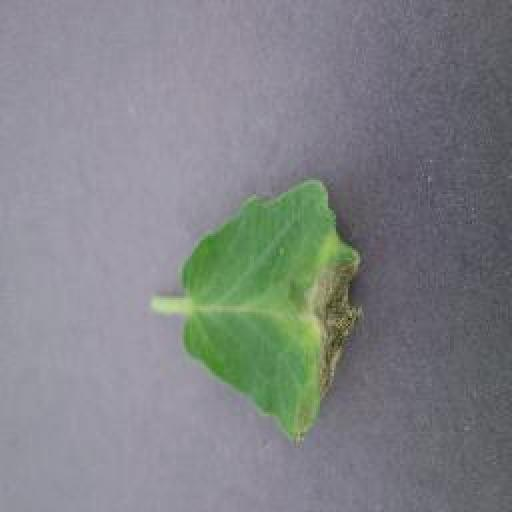disease_tomato: (186, 180, 366, 446)
